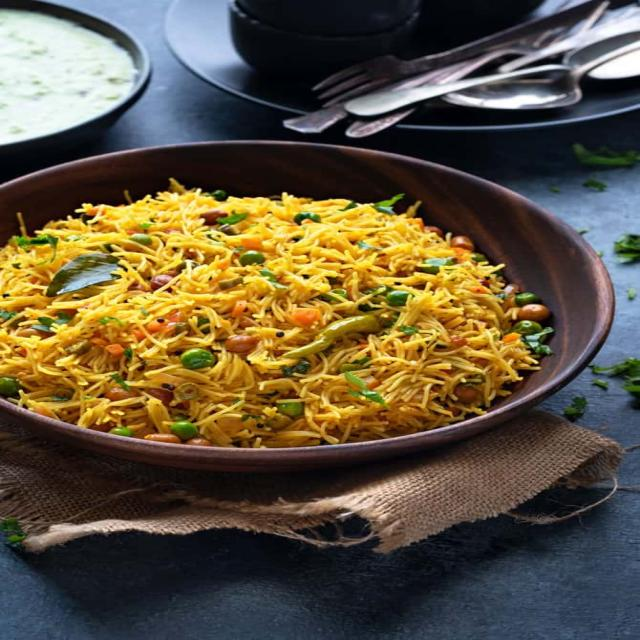POHA: (0, 183, 548, 440)
